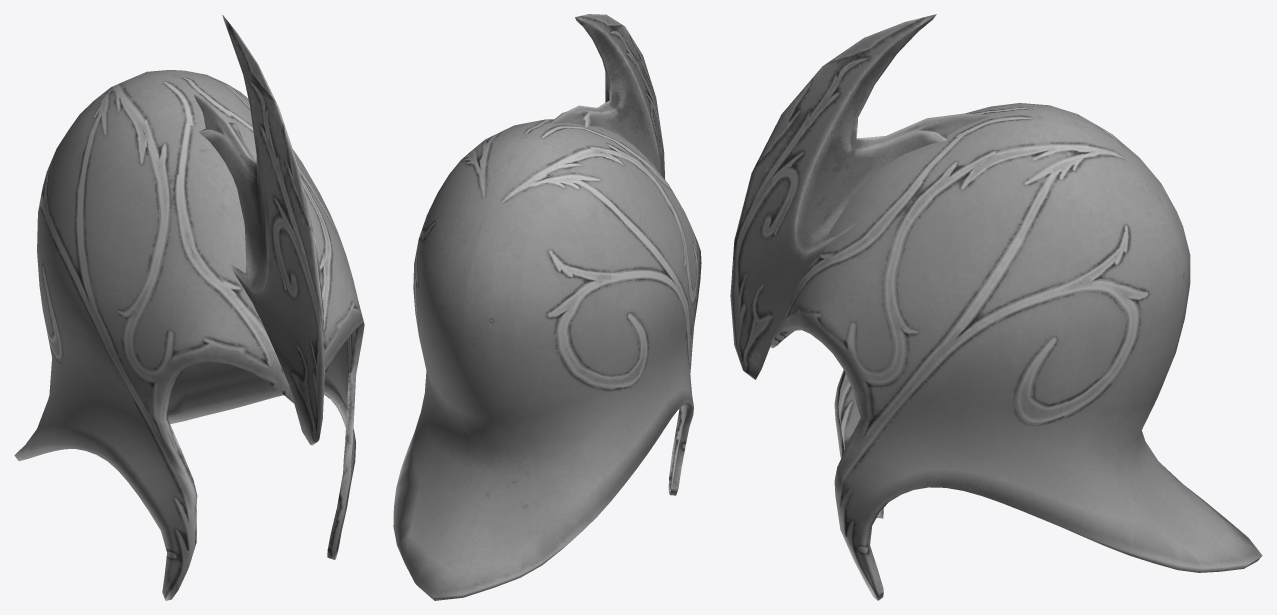
The model's file is rivendell_helmet_archer_tier3_silver.fbx.
3 views of the same model, side by side, from view 1: azimuth 30°, elevation 25°; view 2: azimuth 150°, elevation 25°; view 3: azimuth 270°, elevation 25° (orthographic). The views are drawn at different scales.
Visible parts, largest first — view 1: rivendell_helmet_archer_tier3_silver.1, rivendell_helmet_archer_tier3_silver.0; view 2: rivendell_helmet_archer_tier3_silver.1, rivendell_helmet_archer_tier3_silver.0; view 3: rivendell_helmet_archer_tier3_silver.1, rivendell_helmet_archer_tier3_silver.0.
Boxes of the visible parts, left/top/right/bottom form: rivendell_helmet_archer_tier3_silver.1: left=14, top=70, right=364, bottom=600; rivendell_helmet_archer_tier3_silver.0: left=194, top=15, right=325, bottom=445; rivendell_helmet_archer_tier3_silver.1: left=393, top=119, right=701, bottom=600; rivendell_helmet_archer_tier3_silver.0: left=550, top=14, right=665, bottom=179; rivendell_helmet_archer_tier3_silver.1: left=770, top=103, right=1262, bottom=600; rivendell_helmet_archer_tier3_silver.0: left=730, top=14, right=992, bottom=379.
Bounding box in the file's own units: 0.1912 × 0.3477 × 0.3947.
2 materials, 2 textured.
